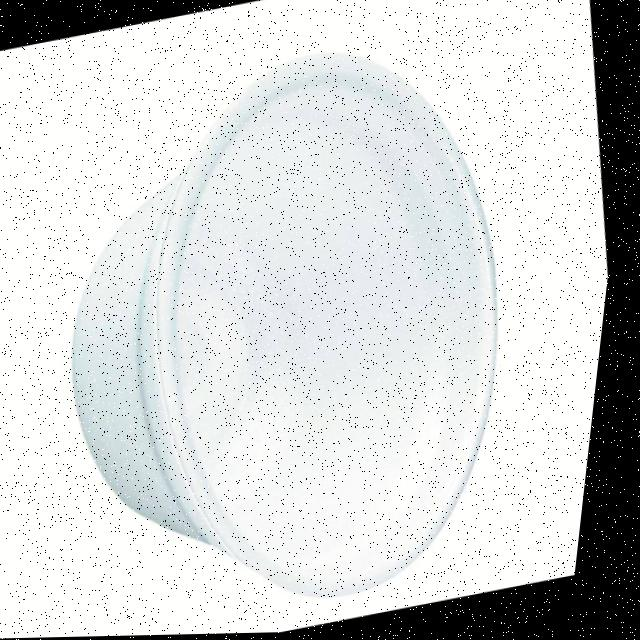foam: (0, 0, 607, 639)
